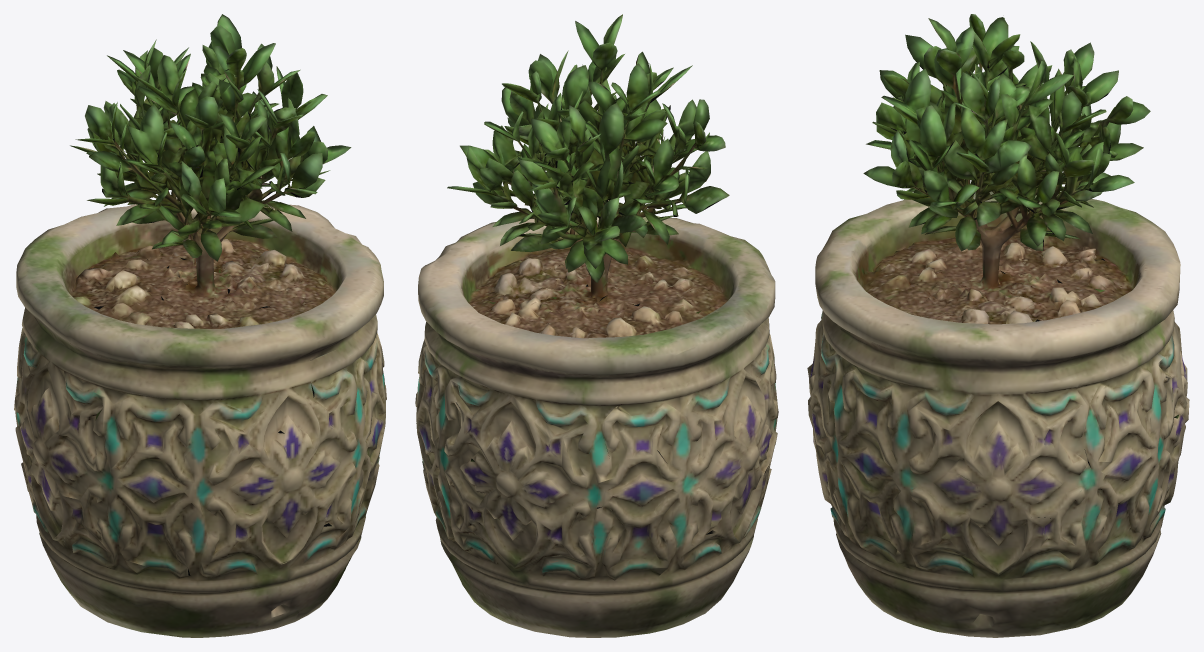
Rendered from Ornate_Bonsai_in_a_Ca.fbx.
3 renders of one model, left to right at view 1: azimuth 30°, elevation 25°; view 2: azimuth 150°, elevation 25°; view 3: azimuth 270°, elevation 25°, orthographic. The views are drawn at different scales.
Parts seen in each view (by area): view 1: Ornate_Bonsai_in_a_Ca_LOD0; view 2: Ornate_Bonsai_in_a_Ca_LOD0; view 3: Ornate_Bonsai_in_a_Ca_LOD0.
Part boxes in pixels (x1=…): Ornate_Bonsai_in_a_Ca_LOD0: x1=14, y1=14, x2=386, y2=637; Ornate_Bonsai_in_a_Ca_LOD0: x1=415, y1=14, x2=778, y2=637; Ornate_Bonsai_in_a_Ca_LOD0: x1=807, y1=14, x2=1189, y2=637.
Size of what is drawn, in the model's own units: 1.16 by 1.89 by 1.16.
1 material, 1 textured.
